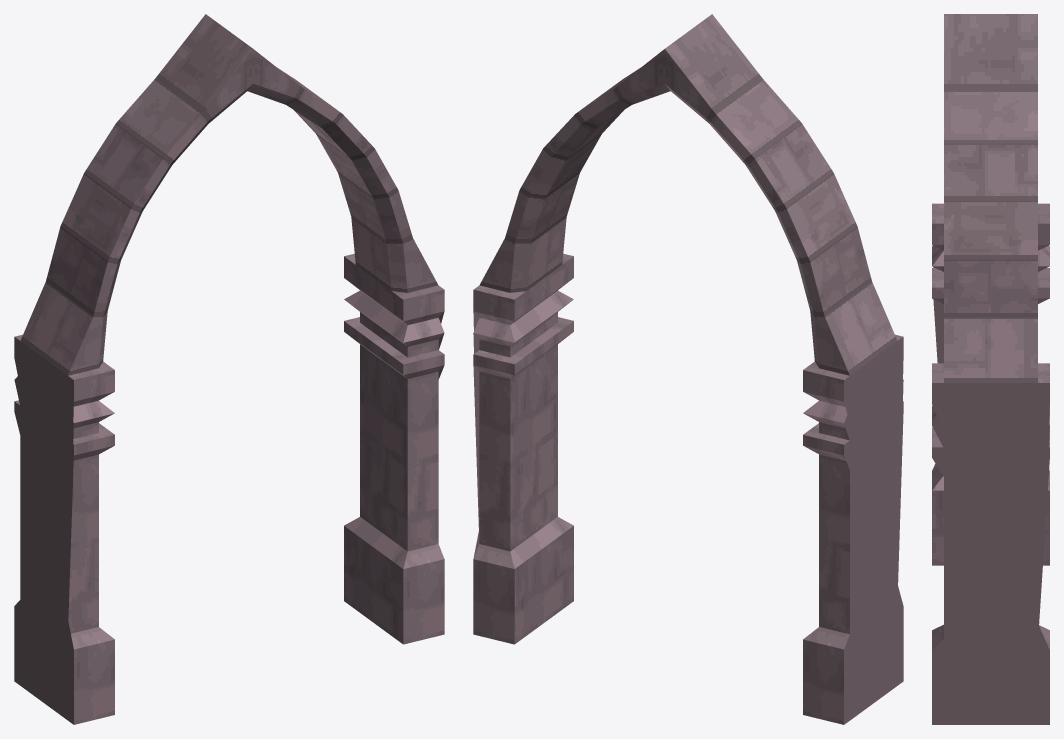
File: deckenbogen_a.glb
The picture shows the model from 3 angles, left to right: view 1: azimuth 30°, elevation 25°; view 2: azimuth 150°, elevation 25°; view 3: azimuth 270°, elevation 25°; orthographic projection.
Parts seen in each view (by area): view 1: bogen, pfeiler_l, pfeiler_r; view 2: bogen, pfeiler_r, pfeiler_l; view 3: pfeiler_r, bogen, pfeiler_l.
Part boxes in pixels (x1,y1,x2,y2): bogen: [20, 14, 438, 375]; pfeiler_l: [14, 334, 114, 724]; pfeiler_r: [344, 253, 444, 644]; bogen: [479, 14, 897, 375]; pfeiler_r: [473, 253, 573, 644]; pfeiler_l: [803, 334, 903, 724]; pfeiler_r: [932, 363, 1049, 724]; bogen: [944, 14, 1037, 382]; pfeiler_l: [932, 203, 1049, 565].
Bounding box in the file's own units: 2.25 × 3.63 × 0.625.
1 material, 1 textured.
